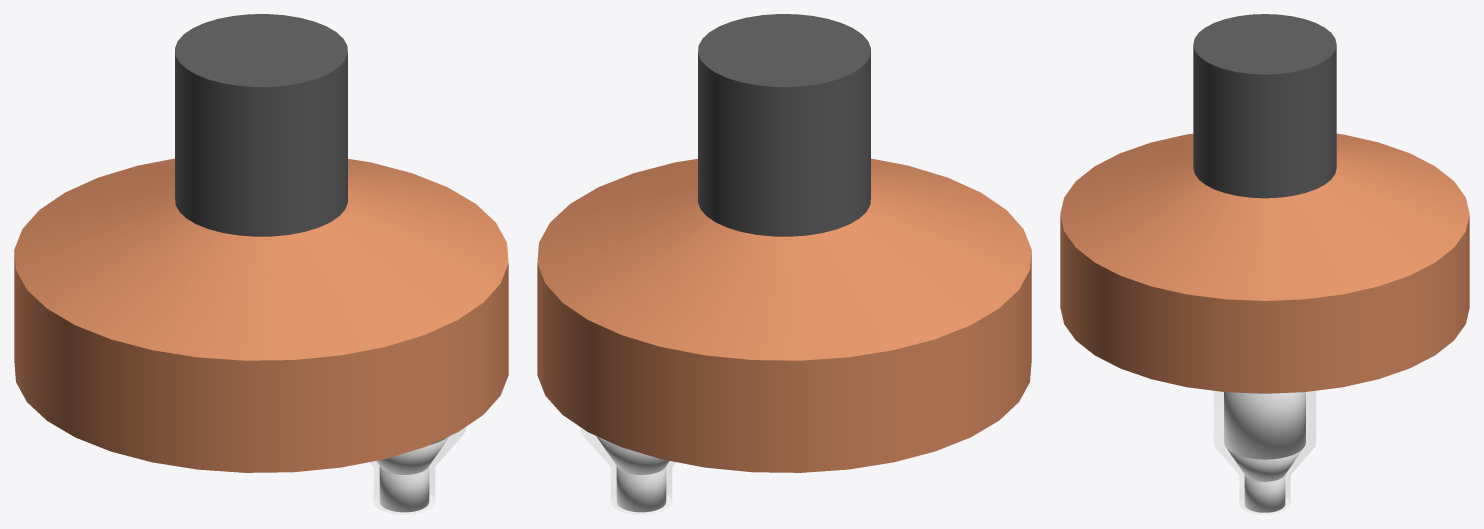
File: MilkMachine.fbx
3 renders of one model, left to right at view 1: azimuth 30°, elevation 25°; view 2: azimuth 150°, elevation 25°; view 3: azimuth 270°, elevation 25°, orthographic. The views are drawn at different scales.
Visible parts, largest first — view 1: Machine2, Machine1, 1Milk3, 1Milk2, 1Pipe; view 2: Machine2, Machine1, 1Milk3, 1Milk2, 1Pipe; view 3: Machine2, Machine1, 1Milk1, 1Pipe, 1Milk3, 1Milk2.
Boxes of the visible parts, left/top/right/bottom form: Machine2: left=14, top=158, right=508, bottom=472; Machine1: left=175, top=14, right=347, bottom=236; 1Milk3: left=379, top=466, right=429, bottom=512; 1Milk2: left=376, top=436, right=449, bottom=474; 1Pipe: left=370, top=427, right=465, bottom=498; Machine2: left=537, top=158, right=1031, bottom=472; Machine1: left=698, top=14, right=870, bottom=236; 1Milk3: left=616, top=466, right=666, bottom=512; 1Milk2: left=596, top=436, right=669, bottom=474; 1Pipe: left=580, top=427, right=675, bottom=498; Machine2: left=1060, top=133, right=1469, bottom=393; Machine1: left=1193, top=14, right=1336, bottom=198; 1Milk1: left=1224, top=392, right=1305, bottom=459; 1Pipe: left=1214, top=391, right=1315, bottom=500; 1Milk3: left=1244, top=475, right=1285, bottom=512; 1Milk2: left=1227, top=449, right=1302, bottom=481.
Size of the model in its own units: 600 by 650 by 600.
